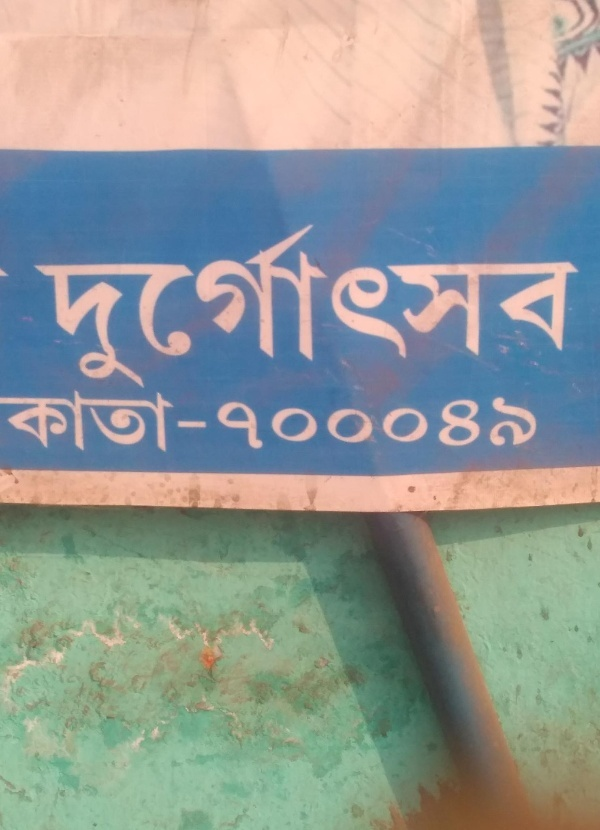text: (33, 220, 48, 390), (49, 220, 64, 390), (65, 220, 80, 390), (81, 220, 96, 390), (97, 220, 112, 390), (113, 220, 128, 390), (129, 220, 144, 390), (145, 220, 160, 390), (161, 220, 176, 390), (177, 220, 192, 390), (193, 220, 208, 390), (209, 220, 224, 390), (225, 220, 240, 390), (241, 220, 256, 390), (257, 220, 272, 390), (273, 220, 288, 390), (289, 220, 304, 390), (305, 220, 320, 390), (321, 220, 336, 390), (337, 220, 352, 390), (353, 220, 368, 390), (369, 220, 384, 390), (385, 220, 400, 390), (401, 220, 416, 390), (417, 220, 432, 390), (433, 220, 448, 390), (449, 220, 464, 390), (465, 220, 480, 390), (481, 220, 496, 390), (497, 220, 512, 390), (513, 220, 528, 390), (529, 220, 544, 390), (545, 220, 560, 390), (561, 220, 576, 390), (577, 220, 585, 390), (17, 386, 32, 460), (33, 386, 48, 460), (49, 386, 64, 460), (65, 386, 80, 460), (81, 386, 96, 460), (97, 386, 112, 460), (113, 386, 128, 460), (129, 386, 144, 460), (145, 386, 160, 460), (161, 386, 176, 460), (177, 386, 192, 460), (193, 386, 208, 460), (2, 386, 16, 460), (225, 395, 240, 455), (241, 395, 256, 455), (257, 395, 272, 455), (273, 395, 288, 455), (289, 395, 304, 455), (305, 395, 320, 455), (321, 395, 336, 455), (337, 395, 352, 455), (353, 395, 368, 455), (369, 395, 384, 455), (385, 395, 400, 455), (401, 395, 416, 455), (417, 395, 432, 455), (433, 395, 448, 455), (449, 395, 464, 455), (465, 395, 480, 455), (481, 395, 496, 455), (497, 395, 512, 455), (513, 395, 528, 455), (212, 395, 224, 455), (529, 395, 539, 455), (1, 256, 16, 292), (30, 220, 32, 390), (209, 386, 211, 460)
